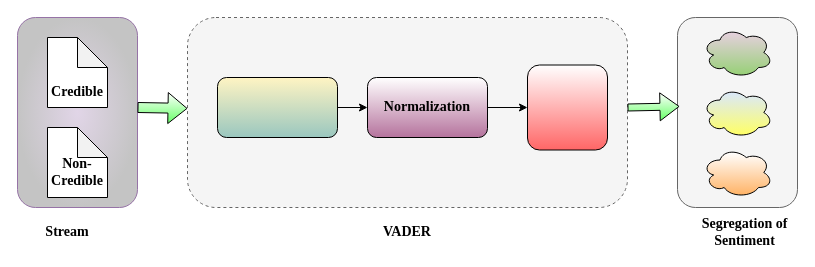
This 815x267 diagram has some shape labels left out. The box of each missing label's shape, as (x1, y1, x2, y2) in pixels:
Comparison With Threshold: (526, 64, 608, 150)
Valence Score of Each Word: (216, 76, 338, 138)
